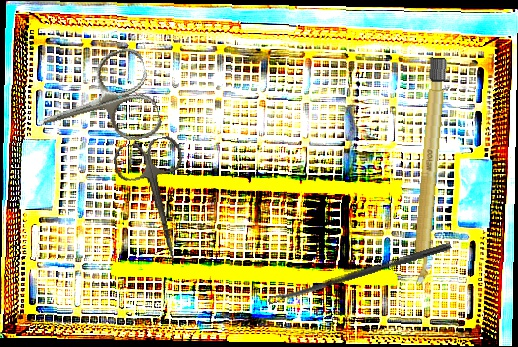Iris Scissors: (24, 44, 165, 167), (111, 133, 205, 270)
Scalpel Handle: (409, 57, 448, 287)
Surgical Spoon: (267, 241, 452, 305)
